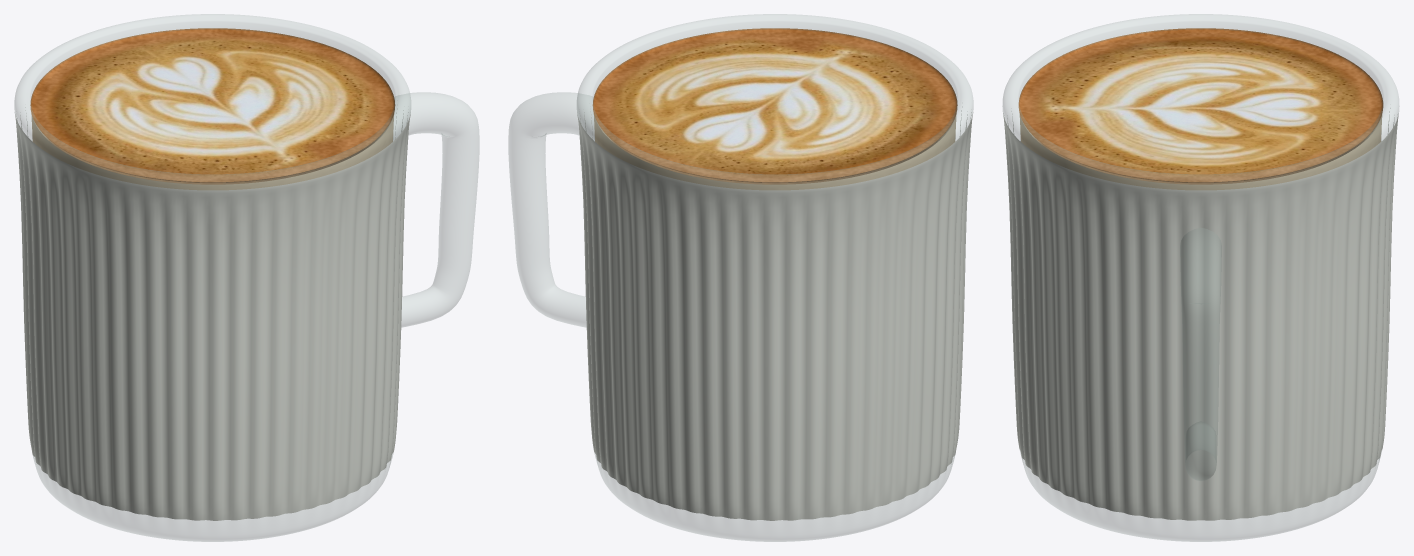
The model's file is alba-flat-white.glb.
3 views of the same model, side by side, from view 1: azimuth 30°, elevation 25°; view 2: azimuth 150°, elevation 25°; view 3: azimuth 270°, elevation 25° (orthographic).
Visible parts, largest first — view 1: Glass • thick wall, rolled rim and solid base, Liquid surface • curved meniscus, Glass handle • polished solid grip, Beverage body • milk, espresso and foam; view 2: Glass • thick wall, rolled rim and solid base, Liquid surface • curved meniscus, Glass handle • polished solid grip, Beverage body • milk, espresso and foam; view 3: Glass • thick wall, rolled rim and solid base, Liquid surface • curved meniscus, Glass handle • polished solid grip, Beverage body • milk, espresso and foam.
Part boxes in pixels (box(x1,y1,x2,y2)): Glass • thick wall, rolled rim and solid base: box(14, 14, 410, 541); Liquid surface • curved meniscus: box(30, 28, 395, 183); Glass handle • polished solid grip: box(393, 92, 479, 327); Beverage body • milk, espresso and foam: box(31, 113, 394, 190); Glass • thick wall, rolled rim and solid base: box(577, 14, 973, 541); Liquid surface • curved meniscus: box(592, 28, 957, 183); Glass handle • polished solid grip: box(508, 92, 594, 327); Beverage body • milk, espresso and foam: box(593, 113, 956, 190); Glass • thick wall, rolled rim and solid base: box(1002, 14, 1399, 541); Liquid surface • curved meniscus: box(1018, 28, 1383, 183); Glass handle • polished solid grip: box(1180, 228, 1221, 480); Beverage body • milk, espresso and foam: box(1019, 114, 1382, 190).
Size of the model in its own units: 0.0985 by 0.0815 by 0.0776.
Materials: 4 (2 with a texture image).
